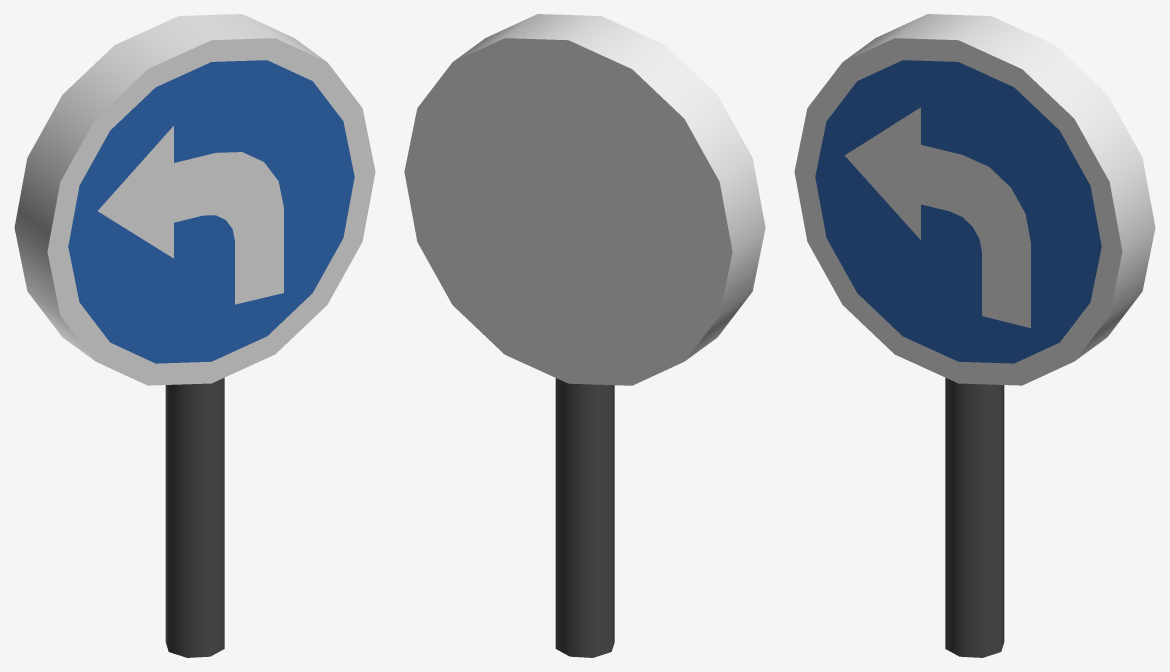
Rendered from road_sign_01.FBX.
3 renders of one model, left to right at view 1: azimuth 30°, elevation 25°; view 2: azimuth 150°, elevation 25°; view 3: azimuth 330°, elevation 25°, orthographic.
Visible parts, largest first — view 1: road_sign_01; view 2: road_sign_01; view 3: road_sign_01.
Boxes of the visible parts, box(x1,y1,x2,y2) form: road_sign_01: box(14, 14, 375, 657); road_sign_01: box(404, 14, 765, 657); road_sign_01: box(794, 14, 1155, 657).
Bounding box in the file's own units: 258 × 44.94 × 464.
Materials: 1 (1 with a texture image).
